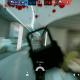Character: (39, 40, 41, 44)
Friend_label: (10, 38, 13, 40)
